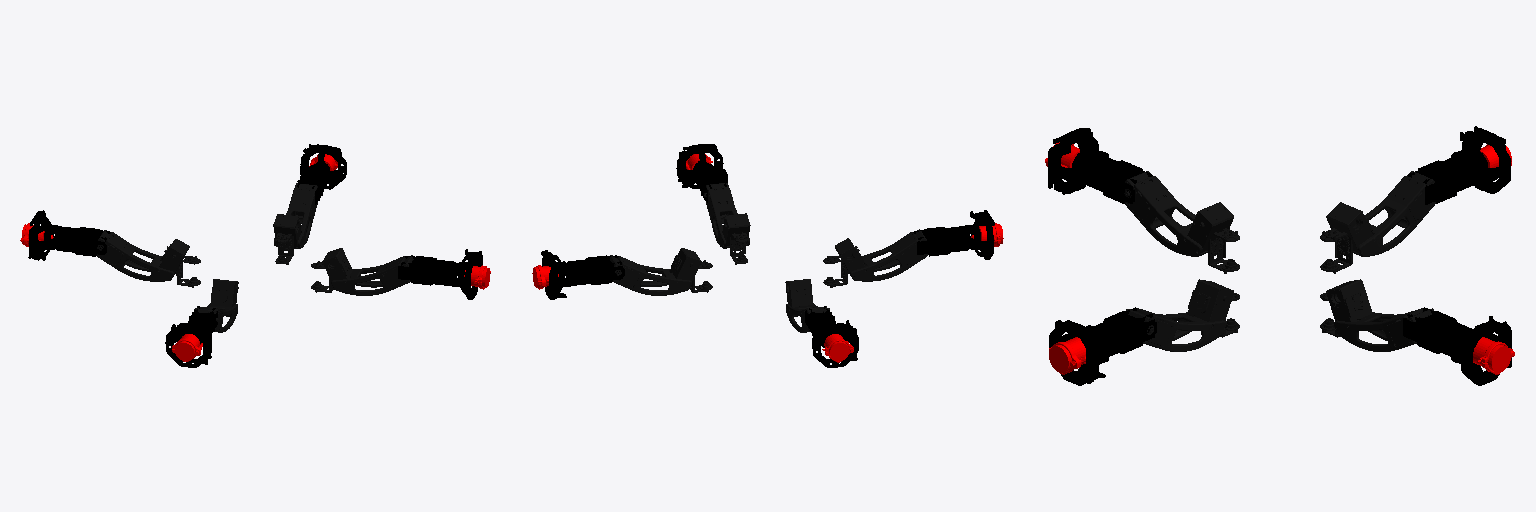
--- Render facts (derived) ---
Views: 3 orthographic renders of the robot side by side, from view 1: azimuth 30°, elevation 25°; view 2: azimuth 150°, elevation 25°; view 3: azimuth 270°, elevation 25°.
Robot: magneto — 35 links, 34 joints (24 revolute, 3 continuous, 3 prismatic, 4 fixed); root link world; default pose: all joints at 0.
Links seen in each view (by area): view 1: BL_femur_link, AR_femur_link, AL_femur_link, AR_tibia_link, BL_tibia_link, BR_femur_link, BR_foot_link_1, AL_tibia_link, BR_foot_link_3, BR_tibia_link, AL_foot_link_1, BL_foot_link_1; view 2: AL_femur_link, BR_femur_link, AR_femur_link, BR_tibia_link, AL_tibia_link, BL_femur_link, AR_tibia_link, BL_foot_link_1, BL_tibia_link, AR_foot_link_1, AL_foot_link_1, BL_foot_link_3; view 3: BR_femur_link, BL_femur_link, AR_femur_link, AL_femur_link, BL_tibia_link, BR_tibia_link, AL_tibia_link, AR_tibia_link, AR_foot_link_1, AL_foot_link_1, BR_foot_link_1, BL_foot_link_1 (+4 smaller).
Boxes of the visible links, x1,y1,x2,y2 form: BL_femur_link: [97, 230, 189, 281]; AR_femur_link: [322, 248, 413, 295]; AL_femur_link: [273, 183, 317, 248]; AR_tibia_link: [398, 256, 479, 286]; BL_tibia_link: [36, 225, 110, 256]; BR_femur_link: [194, 279, 238, 332]; BR_foot_link_1: [165, 323, 211, 367]; AL_tibia_link: [297, 160, 343, 204]; BR_foot_link_3: [172, 334, 202, 361]; BR_tibia_link: [168, 306, 217, 355]; AL_foot_link_1: [300, 144, 346, 189]; BL_foot_link_1: [28, 210, 46, 260]; AL_femur_link: [610, 248, 700, 295]; BR_femur_link: [835, 229, 927, 281]; AR_femur_link: [704, 183, 750, 248]; BR_tibia_link: [913, 225, 988, 256]; AL_tibia_link: [543, 255, 624, 288]; BL_femur_link: [785, 279, 829, 332]; AR_tibia_link: [680, 161, 727, 202]; BL_foot_link_1: [812, 320, 858, 367]; BL_tibia_link: [805, 306, 853, 350]; AR_foot_link_1: [676, 144, 723, 188]; AL_foot_link_1: [541, 250, 566, 299]; BL_foot_link_3: [822, 334, 853, 362]; BR_femur_link: [1124, 171, 1233, 256]; BL_femur_link: [1326, 171, 1435, 256]; AR_femur_link: [1126, 279, 1233, 351]; AL_femur_link: [1326, 279, 1433, 351]; BL_tibia_link: [1408, 146, 1504, 204]; BR_tibia_link: [1055, 149, 1152, 203]; AL_tibia_link: [1403, 307, 1506, 364]; AR_tibia_link: [1051, 307, 1156, 365]; AR_foot_link_1: [1049, 320, 1105, 385]; AL_foot_link_1: [1461, 316, 1511, 385]; BR_foot_link_1: [1048, 128, 1098, 194]; BL_foot_link_1: [1460, 126, 1510, 193].
Bounding box of the posed robot: 0.7323 × 0.673 × 0.116 m (x, y, z).
24 mesh visuals loaded from 8 distinct referenced files (7 binary STL); not drawn: 1 (reference not matched to a file when rendering).

The robot description file, URDF, robot "magneto":
<?xml version="1.0" encoding="utf-8"?>
<!-- =================================================================================== -->
<!-- |    This document was autogenerated by xacro from magneto_2_bones.xacro          | -->
<!-- |    EDITING THIS FILE BY HAND IS NOT RECOMMENDED                                 | -->
<!-- =================================================================================== -->
<robot name="magneto">
<!-- Setup material colours for viewing in RViz -->
<material name="white">
  <color rgba="1 1 1 1"/>
</material>
<material name="blue">
  <color rgba="0 0 1 1"/>
</material>
<material name="green">
  <color rgba="0 1 0 1"/>
</material>
<material name="red">
  <color rgba="1 0 0 1"/>
</material>
<material name="black">
  <color rgba="0 0 0 0.9"/>
</material>
<material name="darkgrey">
  <color rgba="0.1 0.1 0.1 1"/>
</material>
<material name="midgrey">
  <color rgba="0.2 0.2 0.2 1"/>
</material>
<!-- =================================================================================== -->
<!-- |    virtual Joint (6 DoFs)                                                       | -->
<!-- =================================================================================== -->
<link name="world">
    <inertial>
      <origin xyz="0 0 0" rpy="0 0 0" />
      <mass value="0.00000001" />
      <inertia ixx="0.00000001" ixy="0.00000001" ixz="0.00000001" iyy="0.00000001" iyz="0.00000001" izz="0.00000001" />
    </inertial>
  </link>

  <link name="basePosX">
    <inertial>
      <origin xyz="0 0 0" rpy="0 0 0" />
      <mass value="0.00000001" />
      <inertia ixx="0.00000001" ixy="0.00000001" ixz="0.00000001" iyy="0.00000001" iyz="0.00000001" izz="0.00000001" />
    </inertial>
  </link>
  <joint name="basePosX" type="prismatic">
    <origin xyz="0 0 0" rpy="0 0 0" />
    <parent link="world" />
    <child link="basePosX" />
    <axis xyz="1 0 0" />
    <limit effort="200.0" velocity="100.0" lower="-200." upper="200." />
  </joint>

  <link name="basePosY">
    <inertial>
      <origin xyz="0 0 0" rpy="0 0 0" />
      <mass value="0.00000001" />
      <inertia ixx="0.00000001" ixy="0.00000001" ixz="0.00000001" iyy="0.00000001" iyz="0.00000001" izz="0.00000001" />
    </inertial>
  </link>
  <joint name="basePosY" type="prismatic">
    <origin xyz="0 0 0" rpy="0 0 0" />
    <parent link="basePosX" />
    <child link="basePosY" />
    <axis xyz="0 1 0" />
    <limit effort="200.0" velocity="100.0" lower="-200." upper="200." />
  </joint>

  <link name="basePosZ">
    <inertial>
      <origin xyz="0 0 0" rpy="0 0 0" />
      <mass value="0.00000001" />
      <inertia ixx="0.00000001" ixy="0.00000001" ixz="0.00000001" iyy="0.00000001" iyz="0.00000001" izz="0.00000001" />
    </inertial>
  </link>
  <joint name="basePosZ" type="prismatic">
    <origin xyz="0 0 0" rpy="0 0 0" />
    <parent link="basePosY" />
    <child link="basePosZ" />
    <axis xyz="0 0 1" />
    <limit effort="200.0" velocity="100.0" lower="-200." upper="200." />
  </joint>

  <link name="baseRotZ">
    <inertial>
      <origin xyz="0 0 0" rpy="0 0 0" />
      <mass value="0.00000001" />
      <inertia ixx="0.00000001" ixy="0.00000001" ixz="0.00000001" iyy="0.00000001" iyz="0.00000001" izz="0.00000001" />
    </inertial>
  </link>
  <joint name="baseRotZ" type="continuous">
    <origin xyz="0 0 0" rpy="0 0 0" />
    <parent link="basePosZ" />
    <child link="baseRotZ" />
    <axis xyz="0 0 1" />
  </joint>

  <link name="baseRotY">
    <inertial>
      <origin xyz="0 0 0" rpy="0 0 0" />
      <mass value="0.00000001" />
      <inertia ixx="0.00000001" ixy="0.00000001" ixz="0.00000001" iyy="0.00000001" iyz="0.00000001" izz="0.00000001" />
    </inertial>
  </link>
  <joint name="baseRotY" type="continuous">
    <origin xyz="0 0 0" rpy="0 0 0" />
    <parent link="baseRotZ" />
    <child link="baseRotY" />
    <axis xyz="0 1 0" />
  </joint>
  <!-- =================================================================================== -->
  <!-- =================================================================================== -->
  <link name="base_link">
    <inertial>
      <origin rpy="0 0 0" xyz="-0.2696E-03 0 33.3181E-03"/>
      <mass value="1.44521"/>
      <inertia ixx="0.0083421056972" ixy="-4.932e-08" ixz="-2.47500871e-05" iyy="0.0136724752281" iyz="2.37e-11" izz="0.0180888568473"/>
    </inertial>
    <visual>
      <geometry>
        <mesh filename="meshes//base_link.STL"/>
      </geometry>
      <origin rpy="0 0 0" xyz="0 0 0"/>
      <material name="midgrey"/>
    </visual>
    <collision>
      <geometry>
        <mesh filename="meshes//base_link_collision.STL"/>
      </geometry>
      <origin rpy="0 0 0" xyz="0 0 0"/>
    </collision>
  </link>
    <joint name="_base_joint" type="continuous">
    <parent link="baseRotY"/>
    <child link="base_link"/>
    <origin rpy="0 0 0" xyz="0 0 0"/>
    <axis xyz="1 0 0" />
  </joint>

  <link name="AR_coxa_link">
    <inertial>
      <origin rpy="0.0            0.0            0.0" xyz="0.0            0.0            0.0"/>
      <mass value="0.05629"/>
      <inertia ixx="6.383417e-05" ixy="0.0" ixz="0.0" iyy="2.843519e-05" iyz="0.0" izz="4.305331e-05"/>
    </inertial>
    <visual>
      <geometry>
        <mesh filename="meshes//coxa_link.STL"/>
      </geometry>
      <origin rpy="-1.5708          1.5708          0.0" xyz="0.0          0.0          0.0"/>
      <material name="darkgrey"/>
    </visual>
    <collision>
      <geometry>
        <mesh filename="meshes//coxa_link_collision.STL"/>
      </geometry>
      <origin rpy="-1.5708            1.5708            0.0" xyz="0.0            0.0            0.0"/>
    </collision>
  </link>
  <joint name="AR_coxa_joint" type="revolute">
    <limit effort="100.0" lower="-2.355" upper="2.355" velocity="5"/>
    <child link="AR_coxa_link"/>
    <parent link="base_link"/>
    <axis xyz="0 1 0"/>
    <origin rpy="1.5708 0 -0.785" xyz="0.124985156372 -0.0950142657006 0.0527"/>
  </joint>
  <link name="AR_femur_link">
    <inertial>
      <origin rpy="0.0            0.0            0.0" xyz="0.0331            0.0            0.00057"/>
      <mass value="0.25695"/>
      <inertia ixx="0.00023448195" ixy="8.961282e-05" ixz="2.299328e-05" iyy="0.00105768013" iyz="-8.2212e-07" izz="0.00113717868"/>
    </inertial>
    <visual>
      <geometry>
        <mesh filename="meshes//femur_link.STL"/>
      </geometry>
      <origin rpy="3.14159          0.0          0.0" xyz="0.0          0.0          0.0"/>
      <material name="darkgrey"/>
    </visual>
    <collision>
      <geometry>
        <mesh filename="meshes//femur_link_collision.STL"/>
      </geometry>
      <origin rpy="-1.5708            0.0            0.0" xyz="0.0            0.0            0.0"/>
    </collision>
  </link>
  <joint name="AR_femur_joint" type="revolute">
    <limit effort="100.0" lower="-1.571" upper="2.355" velocity="5"/>
    <child link="AR_femur_link"/>
    <parent link="AR_coxa_link"/>
    <axis xyz="0 0 1"/>
    <origin rpy="0 0 0" xyz="0 0.0393 0"/>
  </joint>
  <link name="AR_tibia_link">
    <inertial>
      <origin rpy="0.0            0.0            0.0" xyz="0.04813            0.0            0.00063"/>
      <mass value="0.57311"/>
      <inertia ixx="0.00012691396" ixy="-2.13598e-06" ixz="1.580716e-05" iyy="0.00135132424" iyz="4.859e-08" izz="0.00131598196"/>
    </inertial>
    <visual>
      <geometry>
        <mesh filename="meshes//tibia_link_ft.STL"/>
      </geometry>
      <origin rpy="0.0          0.0          0.0" xyz="0.0          0.0          0.0"/>
      <material name="black"/>
    </visual>
    <collision>
      <geometry>
        <mesh filename="meshes//tibia_link_ft.STL"/>
      </geometry>
      <origin rpy="0.0            0.0            0.0" xyz="0.0            0.0            0.0"/>
    </collision>
  </link>
  <joint name="AR_tibia_joint" type="revolute">
    <limit effort="100.0" lower="-2.355" upper="0.001" velocity="5"/>
    <child link="AR_tibia_link"/>
    <parent link="AR_femur_link"/>
    <axis xyz="0 0 1"/>
    <origin rpy="0.0 0 0.0" xyz="0.15 0 0"/>
  </joint>
  <link name="AR_foot_link_1">
    <inertial>
      <origin rpy="0 0 0" xyz="0.02E-03 2.88E-03 -4.39E-03"/>
      <mass value="0.03591"/>
      <inertia ixx="60131.00E-09" ixy="610.47E-09" ixz="387.97E-09" iyy="31108.13E-09" iyz="346.50E-09" izz="31112.38E-09"/>
    </inertial>
    <visual>
      <geometry>
        <mesh filename="meshes//foot_link_1.STL"/>
      </geometry>
      <origin rpy="0 0 0" xyz="0 0 0"/>
      <material name="black"/>
    </visual>
    <collision>
      <geometry>
        <mesh filename="meshes//foot_link_1_collision.STL"/>
      </geometry>
      <origin rpy="0 0 0" xyz="0 0 0"/>
    </collision>
  </link>
  <joint name="AR_foot_joint_1" type="revolute">
    <parent link="AR_tibia_link"/>
    <axis xyz="0 0 1"/>
    <origin rpy="0 0 0" xyz="0.132 0 0"/>
    <limit effort="100.0" lower="-0.523599" upper="0.523599" velocity="5"/>
    <child link="AR_foot_link_1"/>
    <dynamics damping="0.2" friction="0.0"/>
  </joint>
  <link name="AR_foot_link_2">
    <inertial>
      <origin rpy="0 0 0" xyz="0.02E-03 2.88E-03 -4.39E-03"/>
      <mass value="0.02961"/>
      <inertia ixx="8786.61E-09" ixy="34.74E-09" ixz="7.47E-09" iyy="10893.41E-09" iyz="-95.83E-09" izz="17608.23E-09"/>
    </inertial>
    <visual>
      <geometry>
        <mesh filename="meshes//foot_link_2.STL"/>
      </geometry>
      <origin rpy="0 0 0" xyz="0 0 0"/>
      <material name="black"/>
    </visual>
    <collision>
      <geometry>
        <mesh filename="meshes//foot_link_2_collision.STL"/>
      </geometry>
      <origin rpy="0 0 0" xyz="0 0 0"/>
    </collision>
  </link>
  <joint name="AR_foot_joint_2" type="revolute">
    <axis xyz="0 1 0"/>
    <limit effort="100.0" lower="-0.418879" upper="0.418879" velocity="5"/>
    <parent link="AR_foot_link_1"/>
    <child link="AR_foot_link_2"/>
    <origin rpy="0 0 0" xyz="0 0 0"/>
    <dynamics damping="0.2" friction="0.0"/>
  </joint>
  <link name="AR_foot_link_3">
    <inertial>
      <origin rpy="0 0 0" xyz="0.02E-03 2.88E-03 -4.39E-03"/>
      <mass value="0.32158"/>
      <inertia ixx="49836.99E-09" ixy="144.66E-09" ixz="-4031.72E-09" iyy="81967.91E-09" iyz="-678.12E-09" izz="69129.32E-09"/>
    </inertial>
    <visual>
      <geometry>
        <mesh filename="meshes//foot_link_3.STL"/>
      </geometry>
      <origin rpy="0 0 0" xyz="0 0 0"/>
      <material name="red"/>
    </visual>
    <collision>
      <geometry>
        <mesh filename="meshes//foot_link_3_collision.STL"/>
      </geometry>
      <origin rpy="0 0 0" xyz="0 0 0"/>
    </collision>
  </link>
  <joint name="AR_foot_joint_3" type="revolute">
    <axis xyz="1 0 0"/>
    <limit effort="100.0" lower="-2.07694" upper="2.07694" velocity="5"/>
    <parent link="AR_foot_link_2"/>
    <child link="AR_foot_link_3"/>
    <origin rpy="0 0 0" xyz="0 0 0"/>
    <dynamics damping="0.2" friction="0.0"/>
  </joint>
  <!-- =================================================================================== -->
  <link name="AR_foot_link">
    <inertial>
      <origin rpy="0 0 0" xyz="0 0 0" />
      <mass value="0.000001" />
      <inertia ixx="1E-9" ixy="1E-9" ixz="1E-9" iyy="1E-9" iyz="1E-9" izz="1E-9" />
    </inertial>
  </link>
  <joint name="AR_foot_joint" type="fixed">
    <parent link="AR_foot_link_3"/>
    <child link="AR_foot_link"/>
    <origin rpy="0 -1.5708 0" xyz="0.031 0 0"/>
  </joint>
  <!-- =================================================================================== -->
  <link name="BR_coxa_link">
    <inertial>
      <origin rpy="0.0            0.0            0.0" xyz="0.0            0.0            0.0"/>
      <mass value="0.05629"/>
      <inertia ixx="6.383417e-05" ixy="0.0" ixz="0.0" iyy="2.843519e-05" iyz="0.0" izz="4.305331e-05"/>
    </inertial>
    <visual>
      <geometry>
        <mesh filename="meshes//coxa_link.STL"/>
      </geometry>
      <origin rpy="-1.5708          1.5708          0.0" xyz="0.0          0.0          0.0"/>
      <material name="darkgrey"/>
    </visual>
    <collision>
      <geometry>
        <mesh filename="meshes//coxa_link_collision.STL"/>
      </geometry>
      <origin rpy="-1.5708            1.5708            0.0" xyz="0.0            0.0            0.0"/>
    </collision>
  </link>
  <joint name="BR_coxa_joint" type="revolute">
    <limit effort="100.0" lower="-2.355" upper="2.355" velocity="5"/>
    <child link="BR_coxa_link"/>
    <parent link="base_link"/>
    <axis xyz="0 1 0"/>
    <origin rpy="1.5708 0 -2.355" xyz="-0.12483367311 -0.0952132031704 0.0527"/>
  </joint>
  <link name="BR_femur_link">
    <inertial>
      <origin rpy="0.0            0.0            0.0" xyz="0.0331            0.0            0.00057"/>
      <mass value="0.25695"/>
      <inertia ixx="0.00023448195" ixy="8.961282e-05" ixz="2.299328e-05" iyy="0.00105768013" iyz="-8.2212e-07" izz="0.00113717868"/>
    </inertial>
    <visual>
      <geometry>
        <mesh filename="meshes//femur_link.STL"/>
      </geometry>
      <origin rpy="3.14159          0.0          0.0" xyz="0.0          0.0          0.0"/>
      <material name="darkgrey"/>
    </visual>
    <collision>
      <geometry>
        <mesh filename="meshes//femur_link_collision.STL"/>
      </geometry>
      <origin rpy="-1.5708            0.0            0.0" xyz="0.0            0.0            0.0"/>
    </collision>
  </link>
  <joint name="BR_femur_joint" type="revolute">
    <limit effort="100.0" lower="-1.571" upper="2.355" velocity="5"/>
    <child link="BR_femur_link"/>
    <parent link="BR_coxa_link"/>
    <axis xyz="0 0 1"/>
    <origin rpy="0 0 0" xyz="0 0.0393 0"/>
  </joint>
  <link name="BR_tibia_link">
    <inertial>
      <origin rpy="0.0            0.0            0.0" xyz="0.0363            0.0            -0.00011"/>
      <mass value="0.45311"/>
      <inertia ixx="8.692014e-05" ixy="-1.44653e-06" ixz="-3.73592e-06" iyy="0.00067791971" iyz="1.1736e-07" izz="0.00064913972"/>
    </inertial>
    <visual>
      <geometry>
        <mesh filename="meshes//tibia_link_no_ft.STL"/>
      </geometry>
      <origin rpy="0.0          0.0          0.0" xyz="0.0          0.0          0.0"/>
      <material name="black"/>
    </visual>
    <collision>
      <geometry>
        <mesh filename="meshes//tibia_link_no_ft.STL"/>
      </geometry>
      <origin rpy="0.0            0.0            0.0" xyz="0.0            0.0            0.0"/>
    </collision>
  </link>
  <joint name="BR_tibia_joint" type="revolute">
    <limit effort="100.0" lower="-2.355" upper="0.001" velocity="5"/>
    <child link="BR_tibia_link"/>
    <parent link="BR_femur_link"/>
    <axis xyz="0 0 1"/>
    <origin rpy="0.0 0 0.0" xyz="0.15 0 0"/>
  </joint>
  <link name="BR_foot_link_1">
    <inertial>
      <origin rpy="0 0 0" xyz="0.02E-03 2.88E-03 -4.39E-03"/>
      <mass value="0.03591"/>
      <inertia ixx="60131.00E-09" ixy="610.47E-09" ixz="387.97E-09" iyy="31108.13E-09" iyz="346.50E-09" izz="31112.38E-09"/>
    </inertial>
    <visual>
      <geometry>
        <mesh filename="meshes//foot_link_1.STL"/>
      </geometry>
      <origin rpy="0 0 0" xyz="0 0 0"/>
      <material name="black"/>
    </visual>
    <collision>
      <geometry>
        <mesh filename="meshes//foot_link_1_collision.STL"/>
      </geometry>
      <origin rpy="0 0 0" xyz="0 0 0"/>
    </collision>
  </link>
  <joint name="BR_foot_joint_1" type="revolute">
    <parent link="BR_tibia_link"/>
    <axis xyz="0 0 1"/>
    <origin rpy="0 0 0" xyz="0.132 0 0"/>
    <limit effort="100.0" lower="-0.523599" upper="0.523599" velocity="5"/>
    <child link="BR_foot_link_1"/>
    <dynamics damping="0.2" friction="0.0"/>
  </joint>
  <link name="BR_foot_link_2">
    <inertial>
      <origin rpy="0 0 0" xyz="0.02E-03 2.88E-03 -4.39E-03"/>
      <mass value="0.02961"/>
      <inertia ixx="8786.61E-09" ixy="34.74E-09" ixz="7.47E-09" iyy="10893.41E-09" iyz="-95.83E-09" izz="17608.23E-09"/>
    </inertial>
    <visual>
      <geometry>
        <mesh filename="meshes//foot_link_2.STL"/>
      </geometry>
      <origin rpy="0 0 0" xyz="0 0 0"/>
      <material name="black"/>
    </visual>
    <collision>
      <geometry>
        <mesh filename="meshes//foot_link_2_collision.STL"/>
      </geometry>
      <origin rpy="0 0 0" xyz="0 0 0"/>
    </collision>
  </link>
  <joint name="BR_foot_joint_2" type="revolute">
    <axis xyz="0 1 0"/>
    <limit effort="100.0" lower="-0.418879" upper="0.418879" velocity="5"/>
    <parent link="BR_foot_link_1"/>
    <child link="BR_foot_link_2"/>
    <origin rpy="0 0 0" xyz="0 0 0"/>
    <dynamics damping="0.2" friction="0.0"/>
  </joint>
  <link name="BR_foot_link_3">
    <inertial>
      <origin rpy="0 0 0" xyz="0.02E-03 2.88E-03 -4.39E-03"/>
      <mass value="0.32158"/>
      <inertia ixx="49836.99E-09" ixy="144.66E-09" ixz="-4031.72E-09" iyy="81967.91E-09" iyz="-678.12E-09" izz="69129.32E-09"/>
    </inertial>
    <visual>
      <geometry>
        <mesh filename="meshes//foot_link_3.STL"/>
      </geometry>
      <origin rpy="0 0 0" xyz="0 0 0"/>
      <material name="red"/>
    </visual>
    <collision>
      <geometry>
        <mesh filename="meshes//foot_link_3_collision.STL"/>
      </geometry>
      <origin rpy="0 0 0" xyz="0 0 0"/>
    </collision>
  </link>
  <joint name="BR_foot_joint_3" type="revolute">
    <axis xyz="1 0 0"/>
    <limit effort="100.0" lower="-2.07694" upper="2.07694" velocity="5"/>
    <parent link="BR_foot_link_2"/>
    <child link="BR_foot_link_3"/>
    <origin rpy="0 0 0" xyz="0 0 0"/>
    <dynamics damping="0.2" friction="0.0"/>
  </joint>
  <!-- =================================================================================== -->
  <link name="BR_foot_link">
    <inertial>
      <origin rpy="0 0 0" xyz="0 0 0" />
      <mass value="0.000001" />
      <inertia ixx="1E-9" ixy="1E-9" ixz="1E-9" iyy="1E-9" iyz="1E-9" izz="1E-9" />
    </inertial>
  </link>
  <joint name="BR_foot_joint" type="fixed">
    <parent link="BR_foot_link_3"/>
    <child link="BR_foot_link"/>
    <origin rpy="0 -1.5708 0" xyz="0.031 0 0"/>
  </joint>
  <!-- =================================================================================== -->
  <link name="BL_coxa_link">
    <inertial>
      <origin rpy="0.0            0.0            0.0" xyz="0.0            0.0            0.0"/>
      <mass value="0.05629"/>
      <inertia ixx="6.383417e-05" ixy="0.0" ixz="0.0" iyy="2.843519e-05" iyz="0.0" izz="4.305331e-05"/>
    </inertial>
    <visual>
      <geometry>
        <mesh filename="meshes//coxa_link.STL"/>
      </geometry>
      <origin rpy="-1.5708          1.5708          0.0" xyz="0.0          0.0          0.0"/>
      <material name="darkgrey"/>
    </visual>
    <collision>
      <geometry>
        <mesh filename="meshes//coxa_link_collision.STL"/>
      </geometry>
      <origin rpy="-1.5708            1.5708            0.0" xyz="0.0            0.0            0.0"/>
    </collision>
  </link>
  <joint name="BL_coxa_joint" type="revolute">
    <limit effort="100.0" lower="-2.355" upper="2.355" velocity="5"/>
    <child link="BL_coxa_link"/>
    <parent link="base_link"/>
    <axis xyz="0 1 0"/>
    <origin rpy="1.5708 0 2.355" xyz="-0.12483367311 0.0952132031704 0.0527"/>
  </joint>
  <link name="BL_femur_link">
    <inertial>
      <origin rpy="0.0            0.0            0.0" xyz="0.0331            0.0            0.00057"/>
      <mass value="0.25695"/>
      <inertia ixx="0.00023448195" ixy="8.961282e-05" ixz="2.299328e-05" iyy="0.00105768013" iyz="-8.2212e-07" izz="0.00113717868"/>
    </inertial>
    <visual>
      <geometry>
        <mesh filename="meshes//femur_link.STL"/>
      </geometry>
      <origin rpy="3.14159          0.0          0.0" xyz="0.0          0.0          0.0"/>
      <material name="darkgrey"/>
    </visual>
    <collision>
      <geometry>
        <mesh filename="meshes//femur_link_collision.STL"/>
      </geometry>
      <origin rpy="-1.5708            0.0            0.0" xyz="0.0            0.0            0.0"/>
    </collision>
  </link>
  <joint name="BL_femur_joint" type="revolute">
    <limit effort="100.0" lower="-1.571" upper="2.355" velocity="5"/>
    <child link="BL_femur_link"/>
    <parent link="BL_coxa_link"/>
    <axis xyz="0 0 1"/>
    <origin rpy="0 0 0" xyz="0 0.0393 0"/>
  </joint>
  <link name="BL_tibia_link">
    <inertial>
      <origin rpy="0.0            0.0            0.0" xyz="0.0363            0.0            -0.00011"/>
      <mass value="0.45311"/>
      <inertia ixx="8.692014e-05" ixy="-1.44653e-06" ixz="-3.73592e-06" iyy="0.00067791971" iyz="1.1736e-07" izz="0.00064913972"/>
    </inertial>
    <visual>
      <geometry>
        <mesh filename="meshes//tibia_link_no_ft.STL"/>
      </geometry>
      <origin rpy="0.0          0.0          0.0" xyz="0.0          0.0          0.0"/>
      <material name="black"/>
    </visual>
    <collision>
      <geometry>
        <mesh filename="meshes//tibia_link_no_ft.STL"/>
      </geometry>
      <origin rpy="0.0            0.0            0.0" xyz="0.0            0.0            0.0"/>
    </collision>
  </link>
  <joint name="BL_tibia_joint" type="revolute">
    <limit effort="100.0" lower="-2.355" upper="0.001" velocity="5"/>
    <child link="BL_tibia_link"/>
    <parent link="BL_femur_link"/>
    <axis xyz="0 0 1"/>
    <origin rpy="0.0 0 0.0" xyz="0.15 0 0"/>
  </joint>
  <link name="BL_foot_link_1">
    <inertial>
      <origin rpy="0 0 0" xyz="0.02E-03 2.88E-03 -4.39E-03"/>
      <mass value="0.03591"/>
      <inertia ixx="60131.00E-09" ixy="610.47E-09" ixz="387.97E-09" iyy="31108.13E-09" iyz="346.50E-09" izz="31112.38E-09"/>
    </inertial>
    <visual>
      <geometry>
        <mesh filename="meshes//foot_link_1.STL"/>
      </geometry>
      <origin rpy="0 0 0" xyz="0 0 0"/>
      <material name="black"/>
    </visual>
    <collision>
      <geometry>
        <mesh filename="meshes//foot_link_1_collision.STL"/>
      </geometry>
      <origin rpy="0 0 0" xyz="0 0 0"/>
    </collision>
  </link>
  <joint name="BL_foot_joint_1" type="revolute">
    <parent link="BL_tibia_link"/>
    <axis xyz="0 0 1"/>
    <origin rpy="0 0 0" xyz="0.132 0 0"/>
    <limit effort="100.0" lower="-0.523599" upper="0.523599" velocity="5"/>
    <child link="BL_foot_link_1"/>
    <dynamics damping="0.2" friction="0.0"/>
  </joint>
  <link name="BL_foot_link_2">
    <inertial>
      <origin rpy="0 0 0" xyz="0.02E-03 2.88E-03 -4.39E-03"/>
      <mass value="0.02961"/>
      <inertia ixx="8786.61E-09" ixy="34.74E-09" ixz="7.47E-09" iyy="10893.41E-09" iyz="-95.83E-09" izz="17608.23E-09"/>
    </inertial>
    <visual>
      <geometry>
        <mesh filename="meshes//foot_link_2.STL"/>
      </geometry>
      <origin rpy="0 0 0" xyz="0 0 0"/>
      <material name="black"/>
    </visual>
    <collision>
      <geometry>
        <mesh filename="meshes//foot_link_2_collision.STL"/>
      </geometry>
      <origin rpy="0 0 0" xyz="0 0 0"/>
    </collision>
  </link>
  <joint name="BL_foot_joint_2" type="revolute">
    <axis xyz="0 1 0"/>
    <limit effort="100.0" lower="-0.418879" upper="0.418879" velocity="5"/>
    <parent link="BL_foot_link_1"/>
    <child link="BL_foot_link_2"/>
    <origin rpy="0 0 0" xyz="0 0 0"/>
    <dynamics damping="0.2" friction="0.0"/>
  </joint>
  <link name="BL_foot_link_3">
    <inertial>
      <origin rpy="0 0 0" xyz="0.02E-03 2.88E-03 -4.39E-03"/>
      <mass value="0.32158"/>
      <inertia ixx="49836.99E-09" ixy="144.66E-09" ixz="-4031.72E-09" iyy="81967.91E-09" iyz="-678.12E-09" izz="69129.32E-09"/>
    </inertial>
    <visual>
      <geometry>
        <mesh filename="meshes//foot_link_3.STL"/>
      </geometry>
      <origin rpy="0 0 0" xyz="0 0 0"/>
      <material name="red"/>
    </visual>
    <collision>
      <geometry>
        <mesh filename="meshes//foot_link_3_collision.STL"/>
      </geometry>
      <origin rpy="0 0 0" xyz="0 0 0"/>
    </collision>
  </link>
  <joint name="BL_foot_joint_3" type="revolute">
    <axis xyz="1 0 0"/>
    <limit effort="100.0" lower="-2.07694" upper="2.07694" velocity="5"/>
    <parent link="BL_foot_link_2"/>
    <child link="BL_foot_link_3"/>
    <origin rpy="0 0 0" xyz="0 0 0"/>
    <dynamics damping="0.2" friction="0.0"/>
  </joint>
  <!-- =================================================================================== -->
  <link name="BL_foot_link">
    <inertial>
      <origin rpy="0 0 0" xyz="0 0 0" />
      <mass value="0.000001" />
      <inertia ixx="1E-9" ixy="1E-9" ixz="1E-9" iyy="1E-9" iyz="1E-9" izz="1E-9" />
    </inertial>
  </link>
  <joint name="BL_foot_joint" type="fixed">
    <parent link="BL_foot_link_3"/>
    <child link="BL_foot_link"/>
    <origin rpy="0 -1.5708 0" xyz="0.031 0 0"/>
  </joint>
  <!-- =================================================================================== -->
  <link name="AL_coxa_link">
    <inertial>
      <origin rpy="0.0            0.0            0.0" xyz="0.0            0.0            0.0"/>
      <mass value="0.05629"/>
      <inertia ixx="6.383417e-05" ixy="0.0" ixz="0.0" iyy="2.843519e-05" iyz="0.0" izz="4.305331e-05"/>
    </inertial>
    <visual>
      <geometry>
        <mesh filename="meshes//coxa_link.STL"/>
      </geometry>
      <origin rpy="-1.5708          1.5708          0.0" xyz="0.0          0.0          0.0"/>
      <material name="darkgrey"/>
    </visual>
    <collision>
      <geometry>
        <mesh filename="meshes//coxa_link_collision.STL"/>
      </geometry>
      <origin rpy="-1.5708            1.5708            0.0" xyz="0.0            0.0            0.0"/>
    </collision>
  </link>
  <joint name="AL_coxa_joint" type="revolute">
    <limit effort="100.0" lower="-2.355" upper="2.355" velocity="5"/>
    <child link="AL_coxa_link"/>
    <parent link="base_link"/>
    <axis xyz="0 1 0"/>
    <origin rpy="1.5708 0 0.785" xyz="0.124985156372 0.0950142657006 0.0527"/>
  </joint>
  <link name="AL_femur_link">
    <inertial>
      <origin rpy="0.0            0.0            0.0" xyz="0.0331            0.0            0.00057"/>
      <mass value="0.25695"/>
      <inertia ixx="0.00023448195" ixy="8.961282e-05" ixz="2.299328e-05" iyy="0.00105768013" iyz="-8.2212e-07" izz="0.00113717868"/>
    </inertial>
    <visual>
      <geometry>
        <mesh filename="meshes//femur_link.STL"/>
      </geometry>
      <origin rpy="3.14159          0.0          0.0" xyz="0.0          0.0          0.0"/>
      <material name="darkgrey"/>
    </visual>
    <collision>
      <geometry>
        <mesh filename="meshes//femur_link_collision.STL"/>
      </geometry>
      <origin rpy="-1.5708            0.0            0.0" xyz="0.0            0.0            0.0"/>
    </collision>
  </link>
  <joint name="AL_femur_joint" type="revolute">
    <limit effort="100.0" lower="-1.571" upper="2.355" velocity="5"/>
    <child link="AL_femur_link"/>
    <parent link="AL_coxa_link"/>
    <axis xyz="0 0 1"/>
    <origin rpy="0 0 0" xyz="0 0.0393 0"/>
  </joint>
  <link name="AL_tibia_link">
    <inertial>
      <origin rpy="0.0            0.0            0.0" xyz="0.0363            0.0            -0.00011"/>
      <mass value="0.45311"/>
      <inertia ixx="8.692014e-05" ixy="-1.44653e-06" ixz="-3.73592e-06" iyy="0.00067791971" iyz="1.1736e-07" izz="0.00064913972"/>
    </inertial>
    <visual>
      <geometry>
        <mesh filename="meshes//tibia_link_no_ft.STL"/>
      </geometry>
      <origin rpy="0.0          0.0          0.0" xyz="0.0          0.0          0.0"/>
      <material name="black"/>
    </visual>
    <collision>
      <geometry>
        <mesh filename="meshes//tibia_link_no_ft.STL"/>
      </geometry>
      <origin rpy="0.0            0.0            0.0" xyz="0.0            0.0            0.0"/>
    </collision>
  </link>
  <joint name="AL_tibia_joint" type="revolute">
    <limit effort="100.0" lower="-2.355" upper="0.001" velocity="5"/>
    <child link="AL_tibia_link"/>
    <parent link="AL_femur_link"/>
    <axis xyz="0 0 1"/>
    <origin rpy="0.0 0 0.0" xyz="0.15 0 0"/>
  </joint>
  <link name="AL_foot_link_1">
    <inertial>
      <origin rpy="0 0 0" xyz="0.02E-03 2.88E-03 -4.39E-03"/>
      <mass value="0.03591"/>
      <inertia ixx="60131.00E-09" ixy="610.47E-09" ixz="387.97E-09" iyy="31108.13E-09" iyz="346.50E-09" izz="31112.38E-09"/>
    </inertial>
    <visual>
      <geometry>
        <mesh filename="meshes//foot_link_1.STL"/>
      </geometry>
      <origin rpy="0 0 0" xyz="0 0 0"/>
      <material name="black"/>
    </visual>
    <collision>
      <geometry>
        <mesh filename="meshes//foot_link_1_collision.STL"/>
      </geometry>
      <origin rpy="0 0 0" xyz="0 0 0"/>
    </collision>
  </link>
  <joint name="AL_foot_joint_1" type="revolute">
    <parent link="AL_tibia_link"/>
    <axis xyz="0 0 1"/>
    <origin rpy="0 0 0" xyz="0.132 0 0"/>
    <limit effort="100.0" lower="-0.523599" upper="0.523599" velocity="5"/>
    <child link="AL_foot_link_1"/>
    <dynamics damping="0.2" friction="0.0"/>
  </joint>
  <link name="AL_foot_link_2">
    <inertial>
      <origin rpy="0 0 0" xyz="0.02E-03 2.88E-03 -4.39E-03"/>
      <mass value="0.02961"/>
      <inertia ixx="8786.61E-09" ixy="34.74E-09" ixz="7.47E-09" iyy="10893.41E-09" iyz="-95.83E-09" izz="17608.23E-09"/>
    </inertial>
    <visual>
      <geometry>
        <mesh filename="meshes//foot_link_2.STL"/>
      </geometry>
      <origin rpy="0 0 0" xyz="0 0 0"/>
      <material name="black"/>
    </visual>
    <collision>
      <geometry>
        <mesh filename="meshes//foot_link_2_collision.STL"/>
      </geometry>
      <origin rpy="0 0 0" xyz="0 0 0"/>
    </collision>
  </link>
  <joint name="AL_foot_joint_2" type="revolute">
    <axis xyz="0 1 0"/>
    <limit effort="100.0" lower="-0.418879" upper="0.418879" velocity="5"/>
    <parent link="AL_foot_link_1"/>
    <child link="AL_foot_link_2"/>
    <origin rpy="0 0 0" xyz="0 0 0"/>
    <dynamics damping="0.2" friction="0.0"/>
  </joint>
  <link name="AL_foot_link_3">
    <inertial>
      <origin rpy="0 0 0" xyz="0.02E-03 2.88E-03 -4.39E-03"/>
      <mass value="0.32158"/>
      <inertia ixx="49836.99E-09" ixy="144.66E-09" ixz="-4031.72E-09" iyy="81967.91E-09" iyz="-678.12E-09" izz="69129.32E-09"/>
    </inertial>
    <visual>
      <geometry>
        <mesh filename="meshes//foot_link_3.STL"/>
      </geometry>
      <origin rpy="0 0 0" xyz="0 0 0"/>
      <material name="red"/>
    </visual>
    <collision>
      <geometry>
        <mesh filename="meshes//foot_link_3_collision.STL"/>
      </geometry>
      <origin rpy="0 0 0" xyz="0 0 0"/>
    </collision>
  </link>
  <joint name="AL_foot_joint_3" type="revolute">
    <axis xyz="1 0 0"/>
    <limit effort="100.0" lower="-2.07694" upper="2.07694" velocity="5"/>
    <parent link="AL_foot_link_2"/>
    <child link="AL_foot_link_3"/>
    <origin rpy="0 0 0" xyz="0 0 0"/>
    <dynamics damping="0.2" friction="0.0"/>
  </joint>
  <!-- =================================================================================== -->
  <link name="AL_foot_link">
    <inertial>
      <origin rpy="0 0 0" xyz="0 0 0" />
      <mass value="0.000001" />
      <inertia ixx="1E-9" ixy="1E-9" ixz="1E-9" iyy="1E-9" iyz="1E-9" izz="1E-9" />
    </inertial>
  </link>
  <joint name="AL_foot_joint" type="fixed">
    <parent link="AL_foot_link_3"/>
    <child link="AL_foot_link"/>
    <origin rpy="0 -1.5708 0" xyz="0.031 0 0"/>
  </joint>
  <!-- =================================================================================== -->
</robot>
